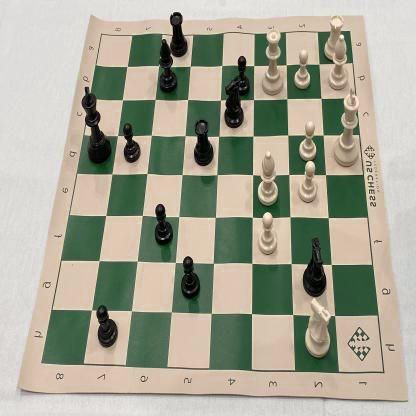black-bishop: (156, 35, 178, 95)
black-king: (80, 83, 114, 168)
black-knight: (298, 236, 330, 300), (218, 76, 246, 130)
black-pawn: (94, 303, 120, 351), (152, 200, 174, 250), (180, 252, 202, 301), (120, 119, 143, 165), (232, 51, 252, 96)
black-rook: (190, 116, 216, 170), (168, 8, 190, 60)
white-bishop: (255, 148, 280, 209), (327, 32, 351, 92)
white-king: (330, 83, 362, 170)
white-knight: (298, 296, 334, 361)
white-pawn: (257, 209, 282, 258), (291, 44, 314, 92), (296, 158, 320, 204), (297, 118, 319, 163)
white-queen: (258, 27, 286, 102)
white-rook: (322, 11, 345, 64)
